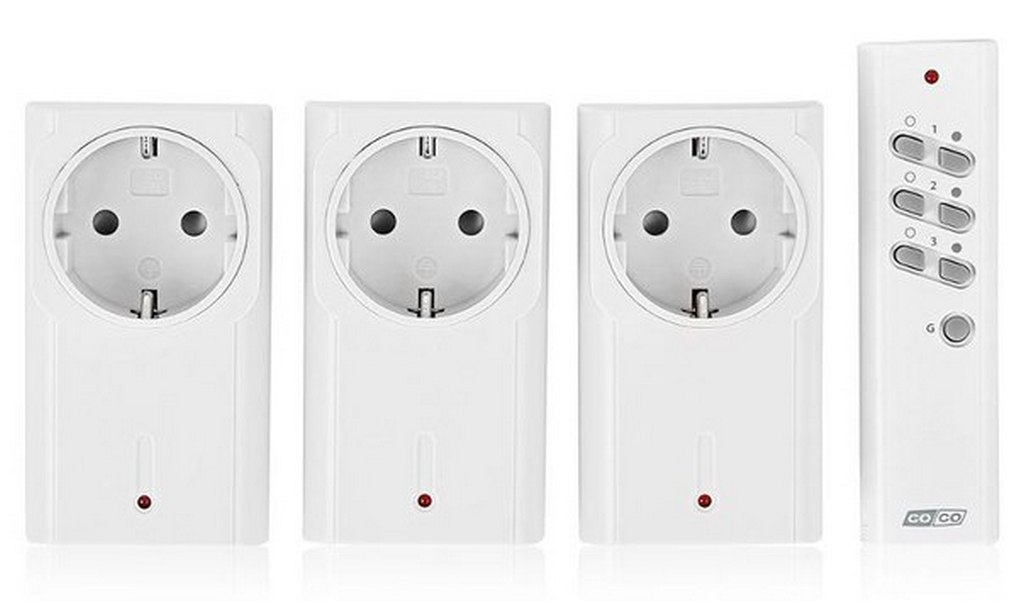raccoon: (601, 123, 808, 324), (46, 126, 251, 328), (329, 122, 531, 326)
